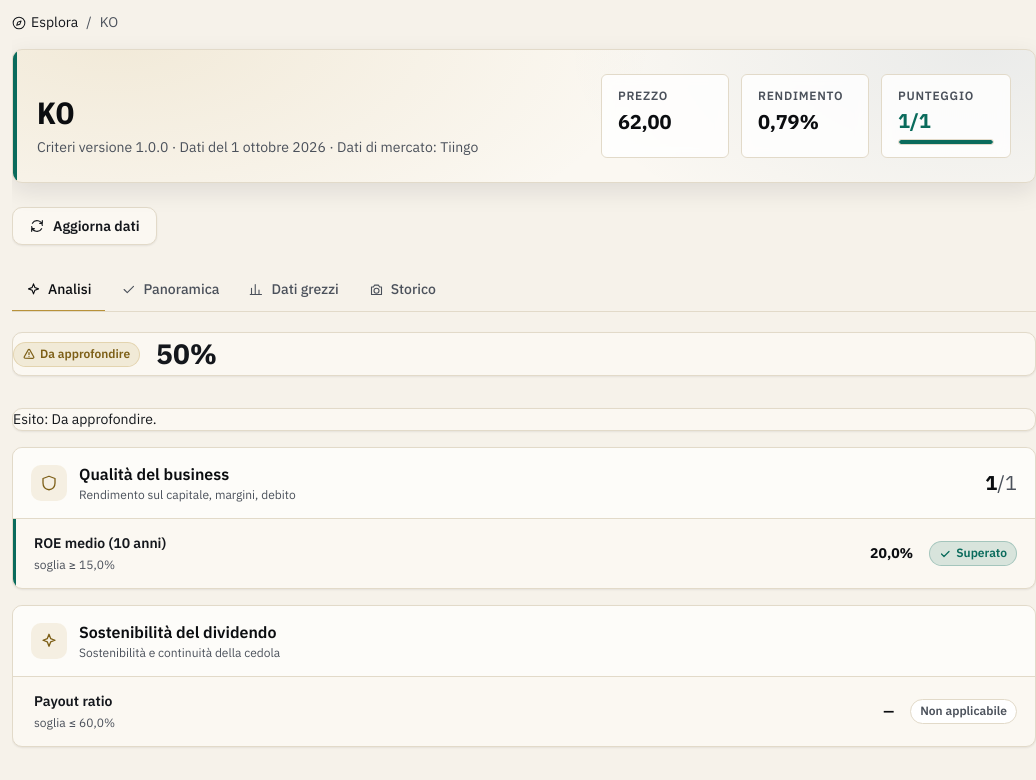
Company detail screen › after a refresh, a market-data limit of the free plan is shown in plain words
Click the button "Aggiorna dati": (84, 226) x1=12 y1=207 x2=157 y2=245
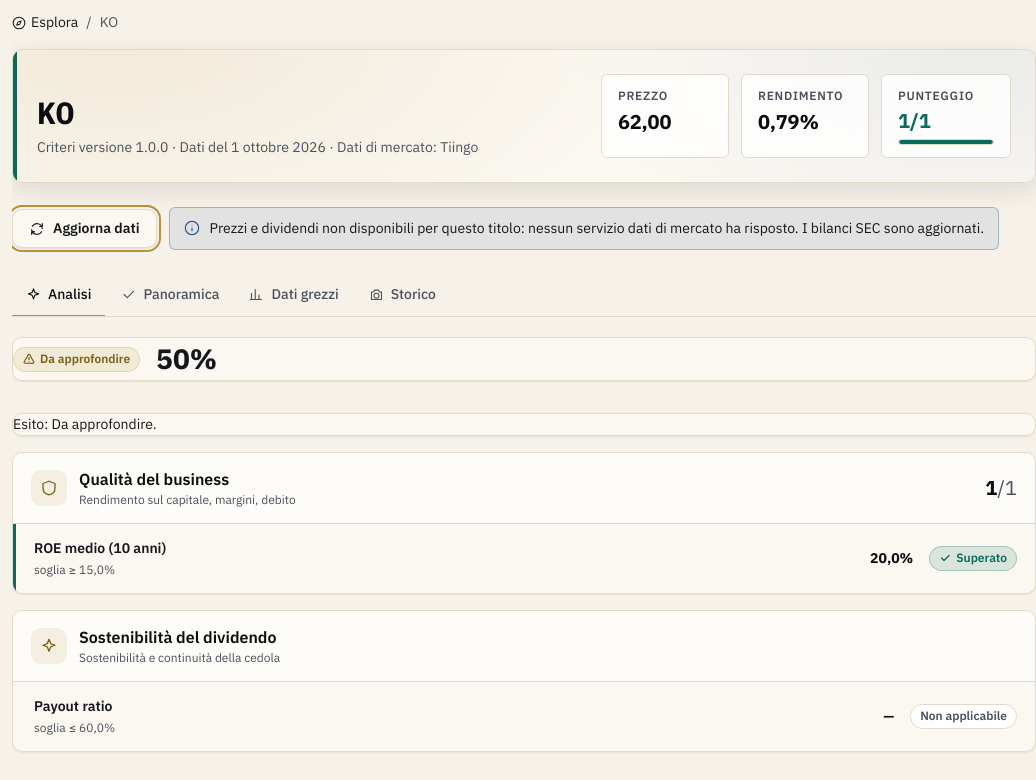
Expected: the text "Prezzi e dividendi non disponibili" is shown, x1=210 y1=219 x2=984 y2=237
